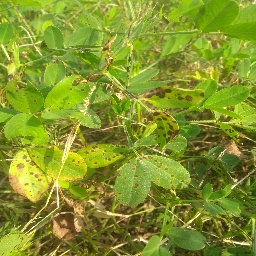GroundNut_Leaf: (29, 146, 88, 180), (43, 74, 92, 111), (116, 159, 152, 208), (5, 77, 41, 113), (154, 157, 191, 190), (197, 2, 238, 30), (141, 87, 203, 105), (205, 85, 248, 108), (167, 227, 207, 250), (44, 25, 64, 49), (70, 187, 90, 197)
